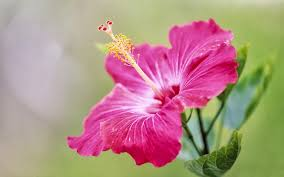hybiscus: (69, 15, 239, 168)
